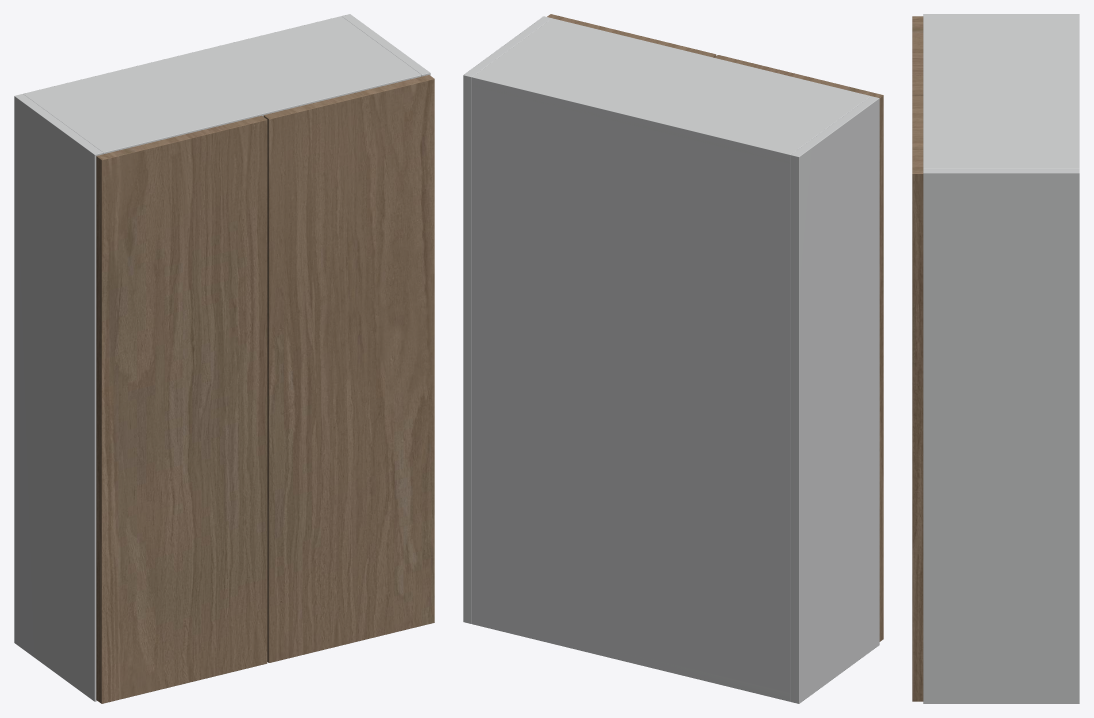
Rendered from oppein-pb-mnw-w2742.glb.
The picture shows the model from 3 angles, left to right: view 1: azimuth 30°, elevation 25°; view 2: azimuth 150°, elevation 25°; view 3: azimuth 270°, elevation 25°; orthographic projection. The views are drawn at different scales.
Parts seen in each view (by area): view 1: Door, Door.001, Cabinet side, Cabinet top, Cabinet side.001; view 2: Cabinet back, Cabinet side, Cabinet top, Cabinet side.001, Door, Cabinet bottom, Door.001; view 3: Cabinet side.001, Cabinet top, Door.001, Door, Cabinet side.
Part boxes in pixels (x1,y1,x2,y2): Door: (96,115,267,703); Door.001: (263,75,434,662); Cabinet side: (14,94,103,701); Cabinet top: (23,16,421,154); Cabinet side.001: (342,14,430,76); Cabinet back: (472,78,790,701); Cabinet side: (790,96,879,703); Cabinet top: (472,18,870,163); Cabinet side.001: (463,16,551,623); Door: (714,55,883,641); Cabinet bottom: (600,647,790,701); Door.001: (547,14,716,57); Cabinet side.001: (923,169,1079,703); Cabinet top: (923,18,1079,168); Door.001: (912,95,923,701); Door: (912,16,923,95); Cabinet side: (923,14,1079,18).
Bounding box in the file's own units: 0.6858 × 1.07 × 0.3048.
Materials: 2 (1 with a texture image).
